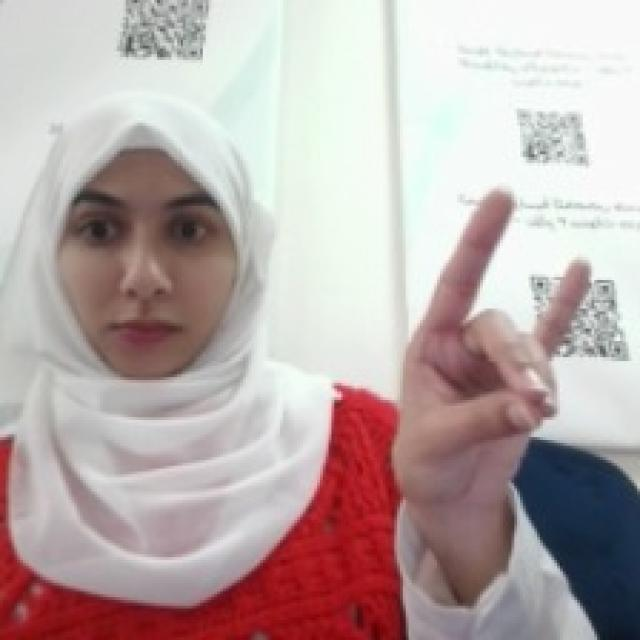Dog: (389, 180, 594, 511)
